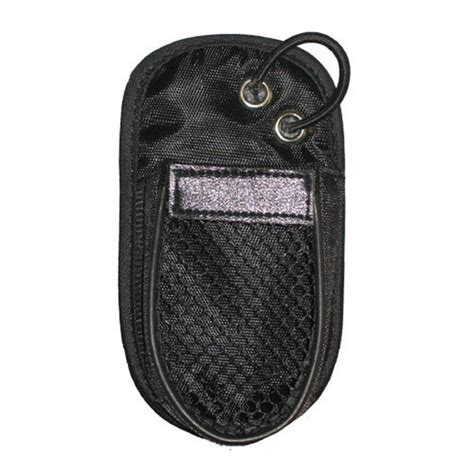nylon: (119, 33, 347, 448)
